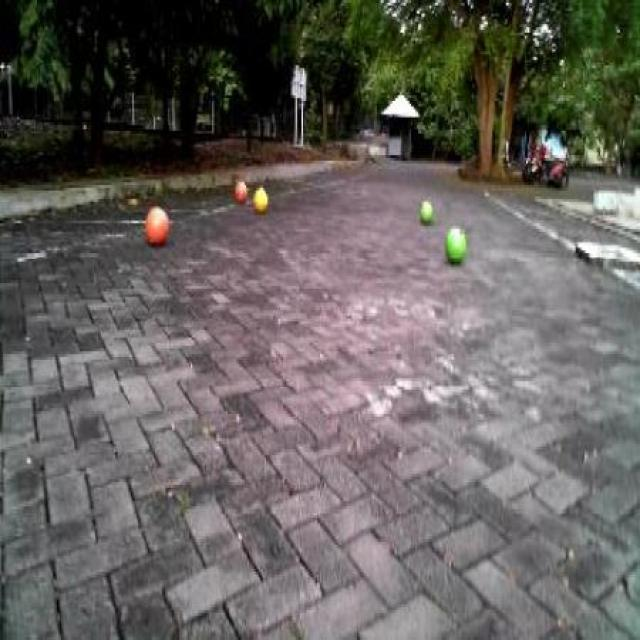buoy: (141, 198, 173, 251), (444, 222, 471, 272), (232, 171, 252, 207), (250, 180, 270, 215), (417, 195, 435, 227)
